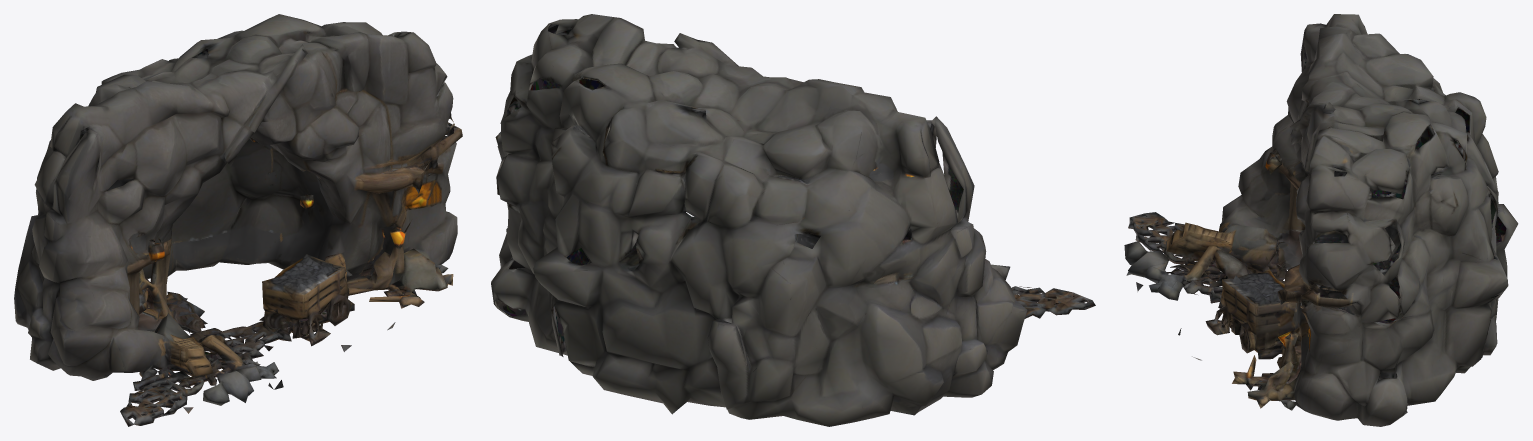
File: Create_a_low_poly_MIN_0809100653_texture.fbx
3 views of the same model, side by side, from view 1: azimuth 30°, elevation 25°; view 2: azimuth 150°, elevation 25°; view 3: azimuth 270°, elevation 25° (orthographic). The views are drawn at different scales.
Parts seen in each view (by area): view 1: Mesh1.0; view 2: Mesh1.0; view 3: Mesh1.0.
Boxes of the visible parts, box(x1,y1,x2,y2) form: Mesh1.0: box(14, 14, 462, 426); Mesh1.0: box(491, 14, 1095, 426); Mesh1.0: box(1124, 14, 1518, 426).
Bounding box in the file's own units: 200 × 120 × 157.
Materials: 1 (1 with a texture image).
